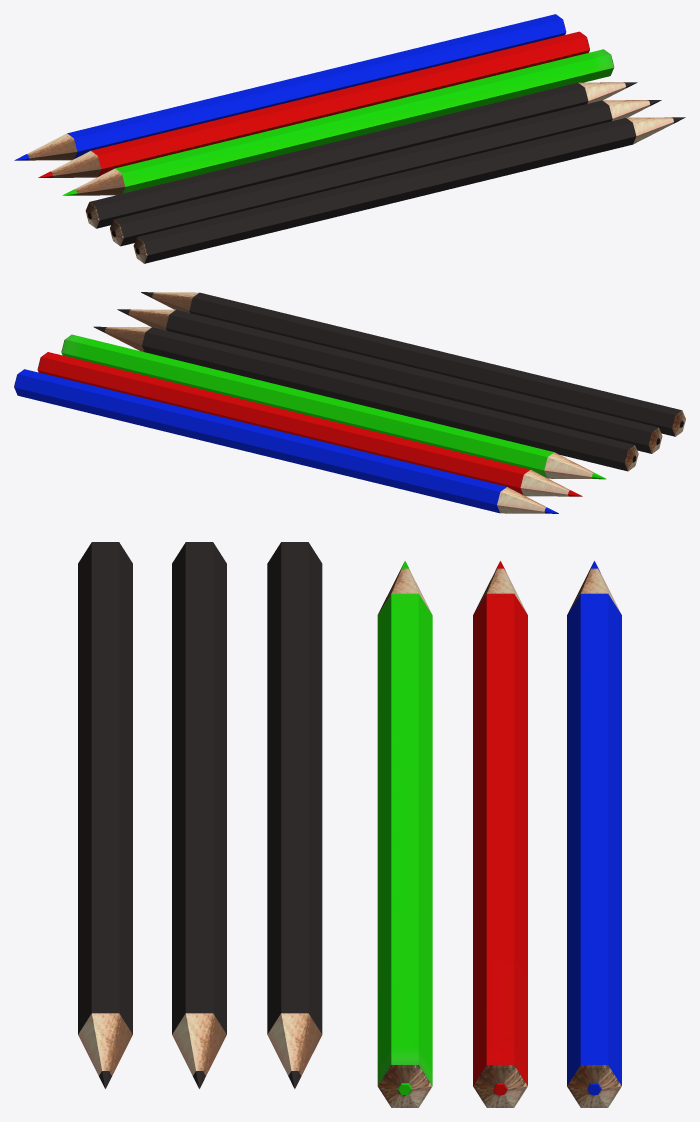
Rendered from pencils.glb.
The picture shows the model from 3 angles, top to bottom: view 1: azimuth 30°, elevation 25°; view 2: azimuth 150°, elevation 25°; view 3: azimuth 270°, elevation 25°; orthographic projection. The views are drawn at different scales.
Parts seen in each view (by area): view 1: Cylinder, Cylinder.003, Cylinder.002, Cylinder.004, Cylinder.005, Cylinder.001; view 2: Cylinder.005, Cylinder.002, Cylinder.001, Cylinder.003, Cylinder.004, Cylinder; view 3: Cylinder.003, Cylinder.002, Cylinder.005, Cylinder.004, Cylinder.001, Cylinder.
Part boxes in pixels (bbox=[...]): Cylinder: bbox=[133, 117, 685, 263]; Cylinder.003: bbox=[62, 49, 614, 195]; Cylinder.002: bbox=[85, 82, 637, 228]; Cylinder.004: bbox=[38, 31, 589, 177]; Cylinder.005: bbox=[14, 14, 566, 160]; Cylinder.001: bbox=[110, 100, 661, 246]; Cylinder.005: bbox=[14, 369, 558, 513]; Cylinder.002: bbox=[93, 326, 638, 471]; Cylinder.001: bbox=[117, 309, 662, 453]; Cylinder.003: bbox=[61, 334, 605, 479]; Cylinder.004: bbox=[37, 352, 582, 496]; Cylinder: bbox=[141, 292, 685, 436]; Cylinder.003: bbox=[377, 561, 432, 1107]; Cylinder.002: bbox=[267, 542, 322, 1088]; Cylinder.005: bbox=[567, 561, 621, 1107]; Cylinder.004: bbox=[473, 561, 527, 1107]; Cylinder.001: bbox=[172, 542, 226, 1088]; Cylinder: bbox=[78, 542, 132, 1088].
Size of the model in its own units: 2484 by 94.29 by 1079.
1 material, 1 textured.
